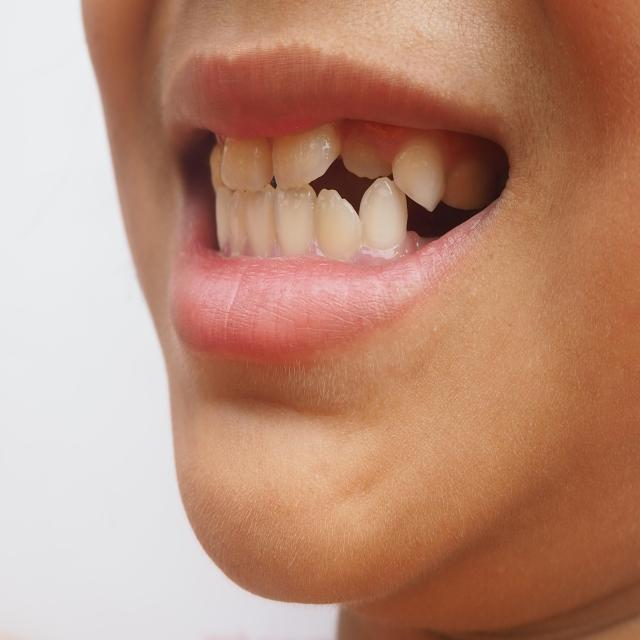Tooth: (272, 124, 341, 190), (391, 140, 448, 212), (314, 188, 364, 261), (359, 177, 408, 250), (273, 184, 317, 256), (220, 138, 274, 193), (442, 159, 497, 210), (244, 184, 277, 258), (342, 143, 392, 180), (227, 190, 249, 255)
